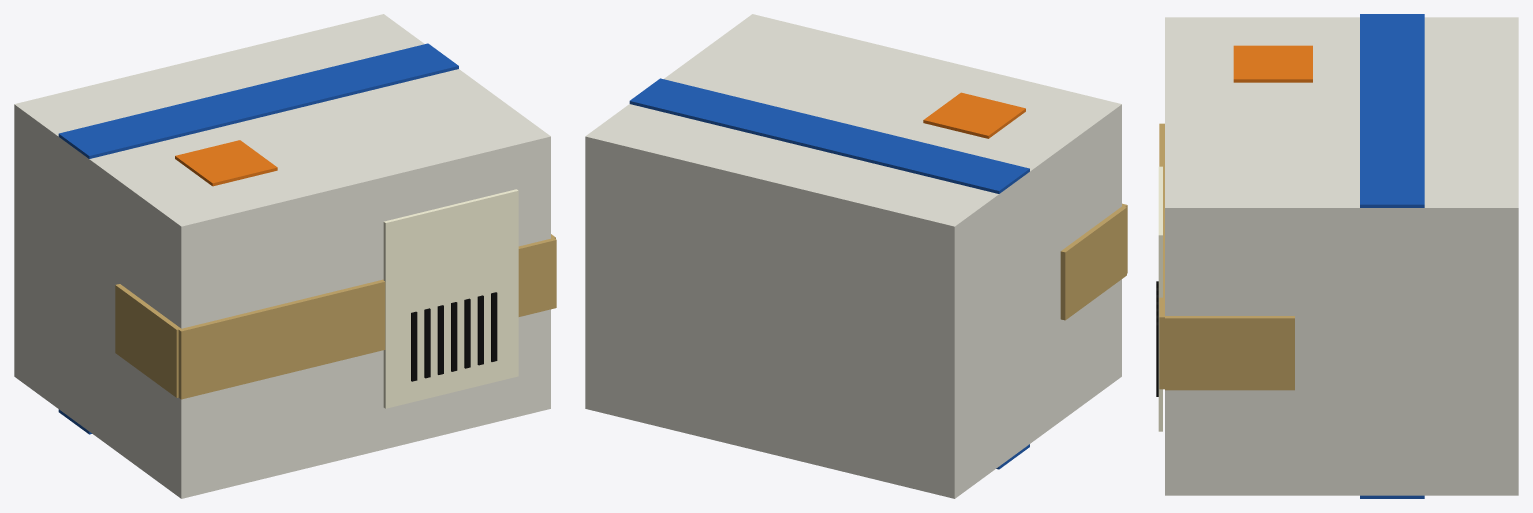
The model's file is item_p4.obj.
3 renders of one model, left to right at view 1: azimuth 30°, elevation 25°; view 2: azimuth 150°, elevation 25°; view 3: azimuth 270°, elevation 25°, orthographic. The views are drawn at different scales.
Visible parts, largest first — view 1: item_p4; view 2: item_p4; view 3: item_p4.
Boxes of the visible parts, bbox=[...] form: item_p4: bbox=[14, 14, 556, 498]; item_p4: bbox=[585, 14, 1127, 498]; item_p4: bbox=[1156, 14, 1518, 498].
Size of the model in its own units: 0.1282 by 0.0906 by 0.1004.
Materials: 1 (1 with a texture image).
